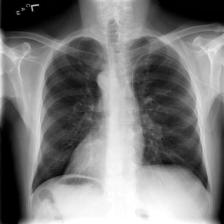normal: (26, 31, 214, 199)
